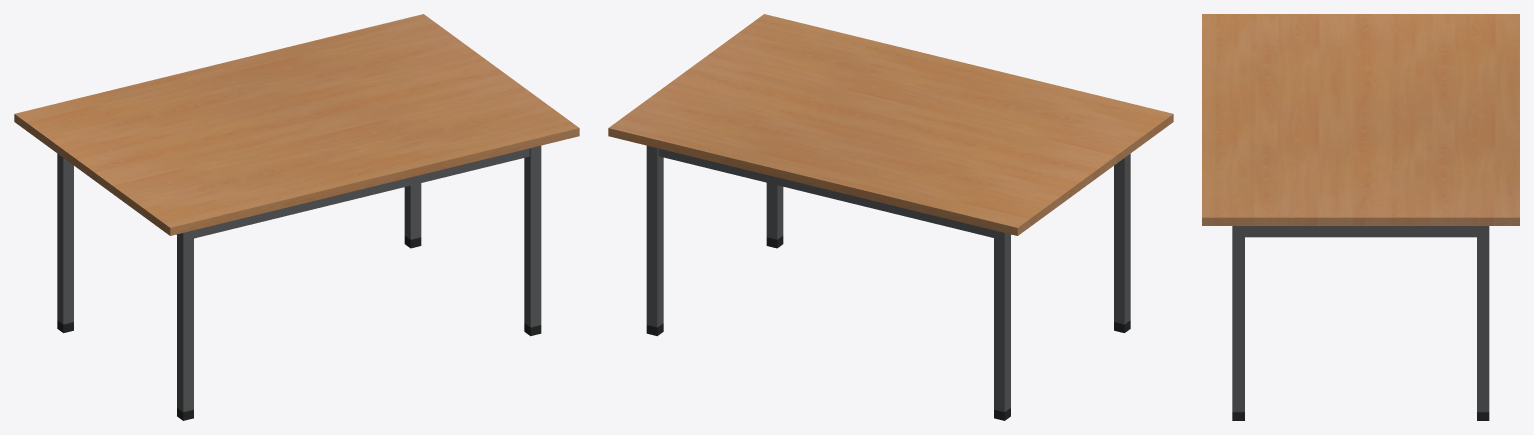
File: table1.FBX
The picture shows the model from 3 angles, left to right: view 1: azimuth 30°, elevation 25°; view 2: azimuth 150°, elevation 25°; view 3: azimuth 270°, elevation 25°; orthographic projection.
Visible parts, largest first — view 1: table1; view 2: table1; view 3: table1.
Part boxes in pixels (<box>): table1: <box>14,14,579,420</box>; table1: <box>608,14,1173,420</box>; table1: <box>1202,14,1519,420</box>.
Size of the model in its own units: 50 by 32.97 by 24.6.
